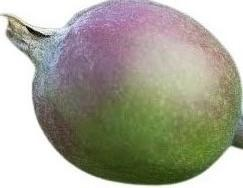fruit: (0, 0, 243, 185)
